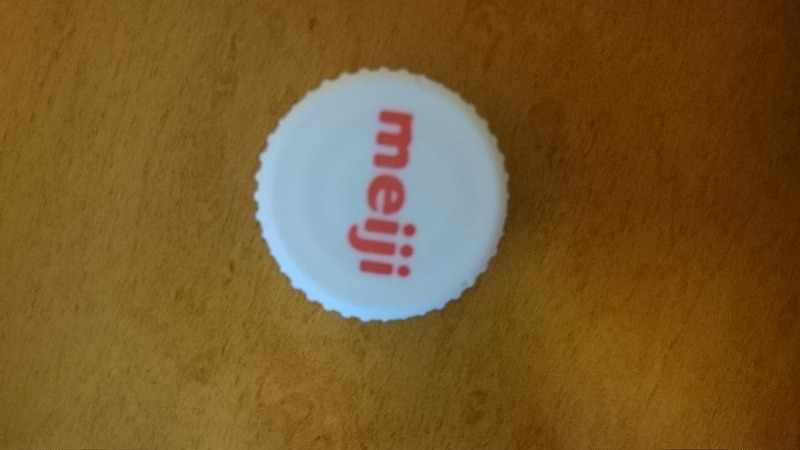B: (251, 60, 518, 326)
